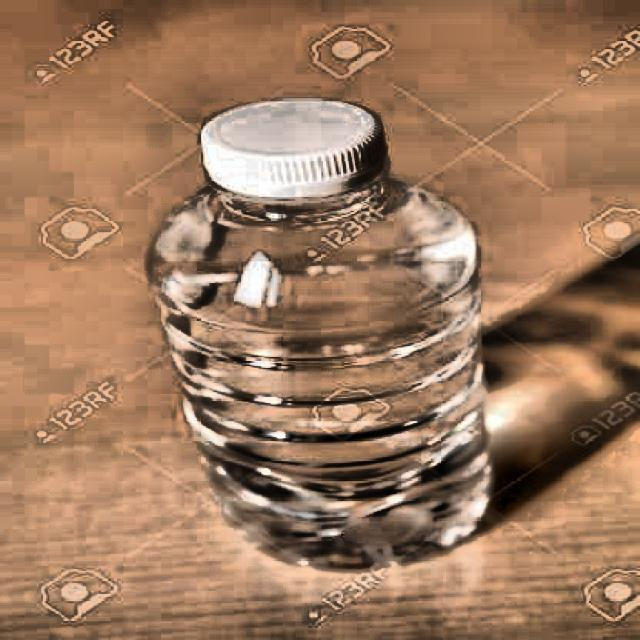Bottles: (137, 79, 502, 586)
